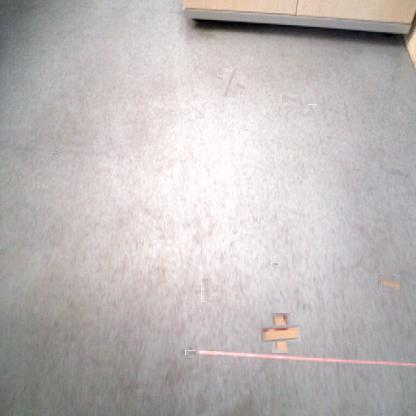dirty: (267, 318, 295, 348), (378, 275, 400, 291)
mark: (219, 71, 241, 93), (198, 282, 215, 299), (191, 102, 205, 119), (281, 94, 298, 102), (307, 105, 318, 117), (52, 151, 60, 158), (186, 349, 194, 356), (272, 261, 279, 268)
